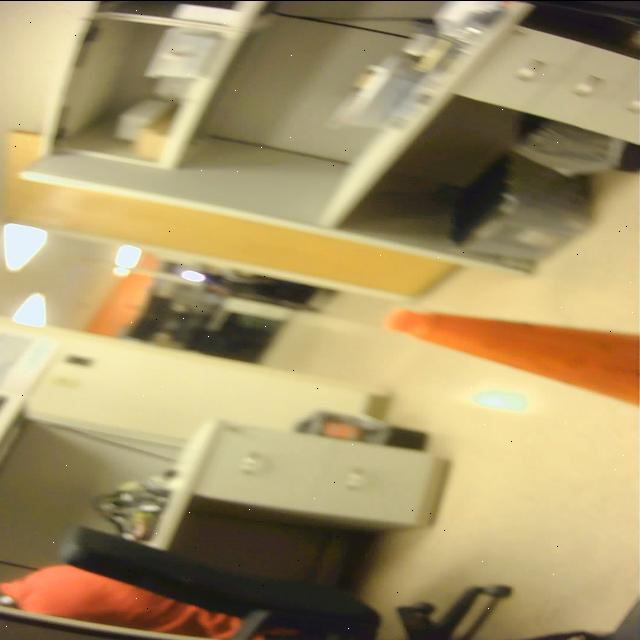traffic cone: (379, 302, 640, 419)
